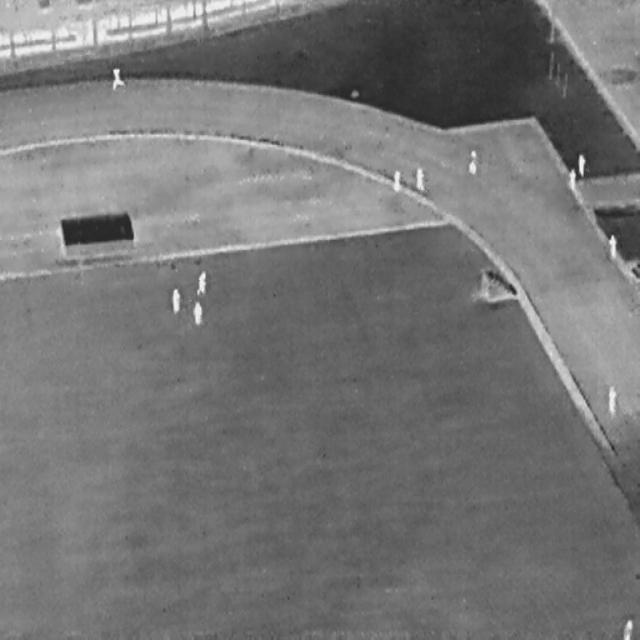Person: (111, 68, 124, 90), (607, 385, 616, 415), (196, 269, 206, 295), (170, 286, 180, 312), (467, 148, 477, 174), (192, 300, 202, 325), (415, 166, 424, 192), (621, 619, 632, 639), (577, 152, 585, 176), (608, 234, 616, 258), (392, 170, 400, 191), (567, 168, 575, 188)
